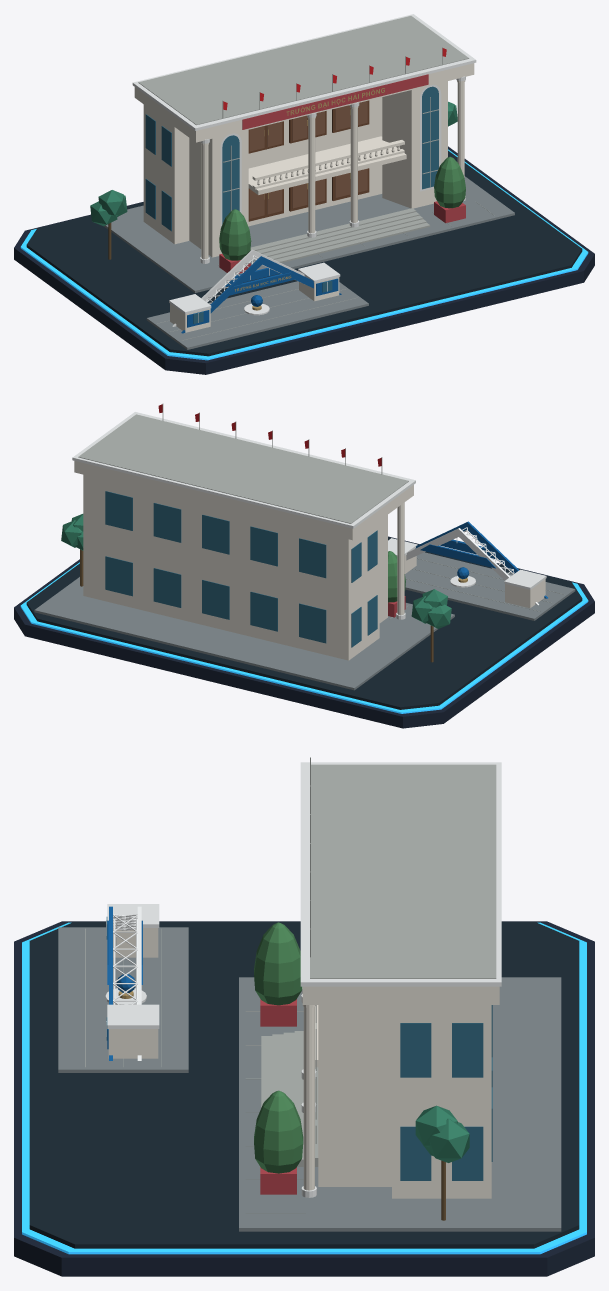
File: hpuni_hq.glb
3 renders of one model, top to bottom at view 1: azimuth 30°, elevation 25°; view 2: azimuth 150°, elevation 25°; view 3: azimuth 270°, elevation 25°, orthographic. The views are drawn at different scales.
Parts seen in each view (by area): view 1: HPUNI | HPUNI deep recess, HPUNI | HPUNI cream F1EDE3, HPUNI | HPUNI stone trim, HPUNI | HPUNI courtyard slate, HPUNI | R2PL dark platform, HPUNI | HPUNI truss white, HPUNI | HPUNI arch glass, HPUNI | HPUNI wood panels, HPUNI | HPUNI cyan 2C91C7, HPUNI | HPUNI muted fascia B84851, HPUNI | HPUNI topiary green, HPUNI | HPUNI blue 1463A4 (+3 smaller); view 2: HPUNI | HPUNI cream F1EDE3, HPUNI | HPUNI courtyard slate, HPUNI | HPUNI stone trim, HPUNI | HPUNI deep recess, HPUNI | HPUNI arch glass, HPUNI | R2PL dark platform, HPUNI | HPUNI truss white, HPUNI | HPUNI cyan 2C91C7, HPUNI | HPUNI garden green, HPUNI | HPUNI blue 1463A4, HPUNI | HPUNI topiary green; view 3: HPUNI | HPUNI deep recess, HPUNI | HPUNI courtyard slate, HPUNI | HPUNI stone trim, HPUNI | HPUNI cream F1EDE3, HPUNI | R2PL dark platform, HPUNI | HPUNI truss white, HPUNI | HPUNI cyan 2C91C7, HPUNI | HPUNI arch glass, HPUNI | HPUNI topiary green, HPUNI | HPUNI garden green, HPUNI | HPUNI muted fascia B84851, HPUNI | HPUNI blue 1463A4.
Boxes of the visible parts, box(x1,y1,x2,y2) form: HPUNI | HPUNI deep recess: box(26, 150, 582, 356); HPUNI | HPUNI cream F1EDE3: box(134, 63, 474, 332); HPUNI | HPUNI stone trim: box(138, 16, 494, 340); HPUNI | HPUNI courtyard slate: box(104, 176, 514, 349); HPUNI | R2PL dark platform: box(14, 146, 594, 374); HPUNI | HPUNI truss white: box(132, 14, 476, 326); HPUNI | HPUNI arch glass: box(145, 86, 438, 323); HPUNI | HPUNI wood panels: box(249, 101, 367, 218); HPUNI | HPUNI cyan 2C91C7: box(20, 149, 588, 360); HPUNI | HPUNI muted fascia B84851: box(219, 74, 465, 273); HPUNI | HPUNI topiary green: box(219, 156, 465, 260); HPUNI | HPUNI blue 1463A4: box(181, 256, 341, 333); HPUNI | HPUNI cream F1EDE3: box(74, 461, 545, 660); HPUNI | HPUNI courtyard slate: box(34, 552, 575, 690); HPUNI | HPUNI stone trim: box(78, 403, 564, 618); HPUNI | HPUNI deep recess: box(26, 537, 582, 709); HPUNI | HPUNI arch glass: box(105, 491, 377, 647); HPUNI | R2PL dark platform: box(14, 536, 594, 728); HPUNI | HPUNI truss white: box(72, 412, 546, 619); HPUNI | HPUNI cyan 2C91C7: box(20, 562, 588, 713); HPUNI | HPUNI garden green: box(61, 514, 451, 628); HPUNI | HPUNI blue 1463A4: box(415, 521, 547, 598); HPUNI | HPUNI topiary green: box(388, 551, 405, 602); HPUNI | HPUNI deep recess: box(29, 921, 579, 1248); HPUNI | HPUNI courtyard slate: box(58, 927, 561, 1231); HPUNI | HPUNI stone trim: box(85, 757, 496, 1213); HPUNI | HPUNI cream F1EDE3: box(108, 928, 499, 1198); HPUNI | R2PL dark platform: box(14, 921, 594, 1276); HPUNI | HPUNI truss white: box(105, 762, 501, 1197); HPUNI | HPUNI cyan 2C91C7: box(22, 922, 586, 1254); HPUNI | HPUNI arch glass: box(106, 917, 492, 1180); HPUNI | HPUNI topiary green: box(254, 922, 303, 1173); HPUNI | HPUNI garden green: box(415, 1105, 469, 1162); HPUNI | HPUNI muted fascia B84851: box(260, 999, 296, 1194); HPUNI | HPUNI blue 1463A4: box(107, 906, 142, 1060).
Size of the model in its own units: 20 by 8 by 14.6.
